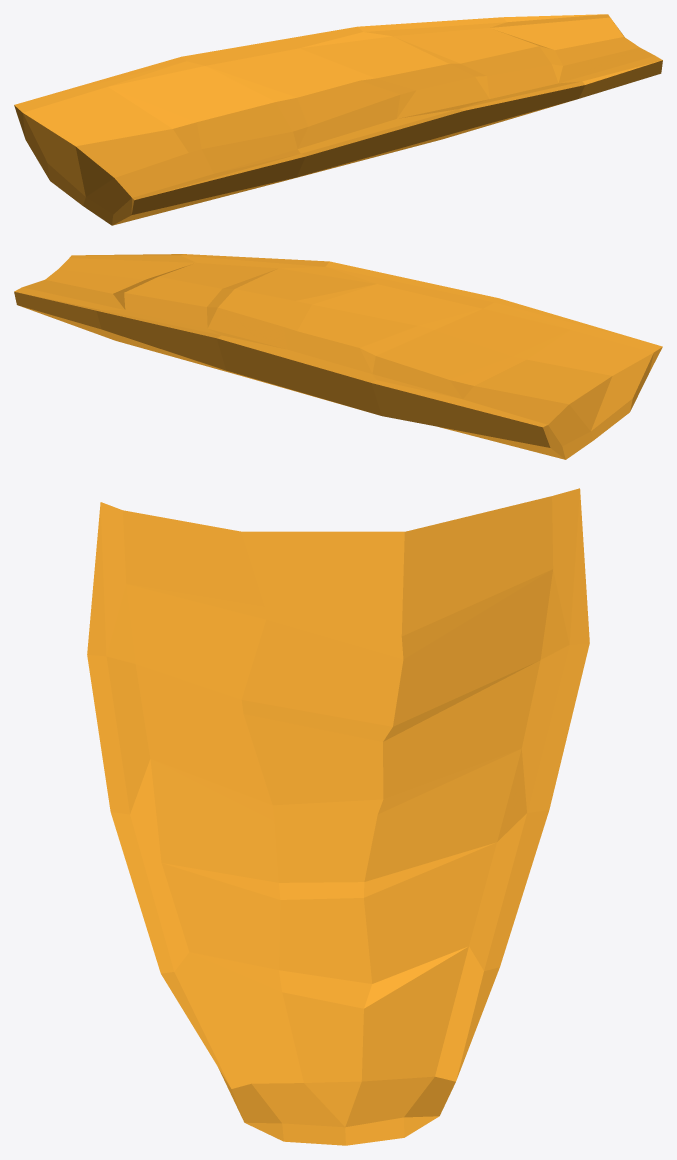
The model's file is SM_Fish_Fillet_Fantasy.fbx.
The picture shows the model from 3 angles, top to bottom: view 1: azimuth 30°, elevation 25°; view 2: azimuth 150°, elevation 25°; view 3: azimuth 270°, elevation 25°; orthographic projection. The views are drawn at different scales.
Visible parts, largest first — view 1: fish-fillet-fantasy; view 2: fish-fillet-fantasy; view 3: fish-fillet-fantasy.
Part boxes in pixels (left/top/right/bottom): fish-fillet-fantasy: left=14, top=14, right=662, bottom=225; fish-fillet-fantasy: left=14, top=254, right=662, bottom=459; fish-fillet-fantasy: left=87, top=488, right=589, bottom=1145.
Bounding box in the file's own units: 0.3779 × 0.0407 × 0.145.
